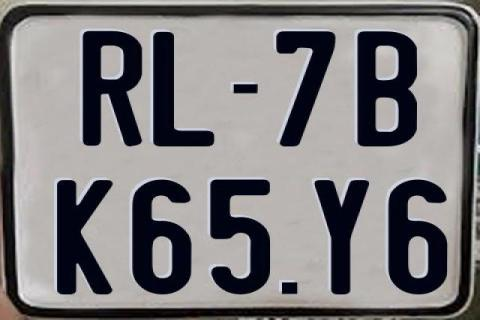0: (387, 178, 452, 298), (129, 178, 193, 296), (210, 178, 273, 296), (273, 30, 334, 148)
B: (357, 30, 421, 146)
K: (55, 178, 116, 294)
L: (150, 32, 217, 147)
R: (80, 29, 141, 147)
Y: (311, 180, 371, 297)
